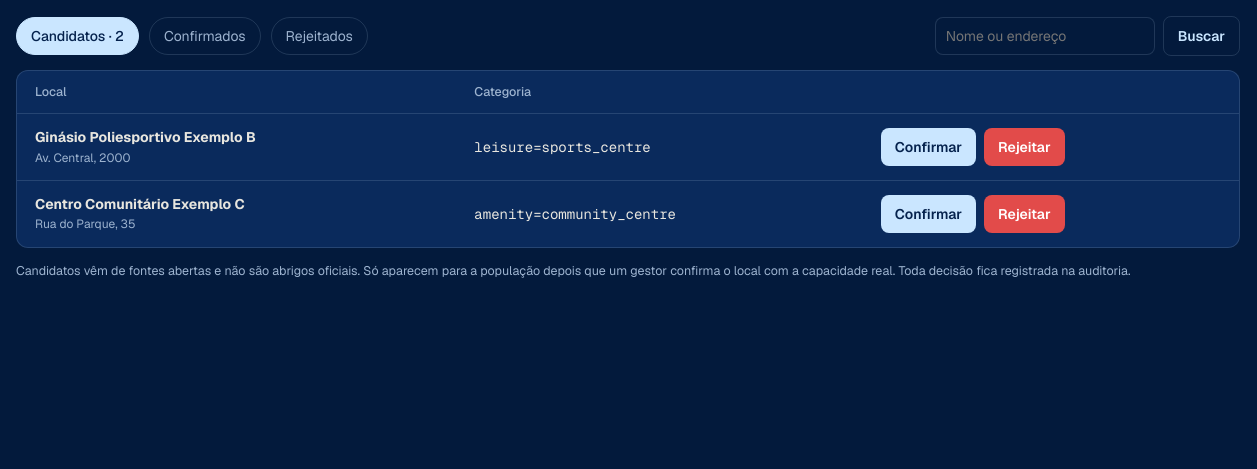
Test case: Revisão de abrigos › rejeita só com o motivo, e o local vai para os rejeitados
Click the button with aria-label "Rejeitar Ginásio Poliesportivo Exemplo B" at (1024, 147), box [984,128,1065,166]
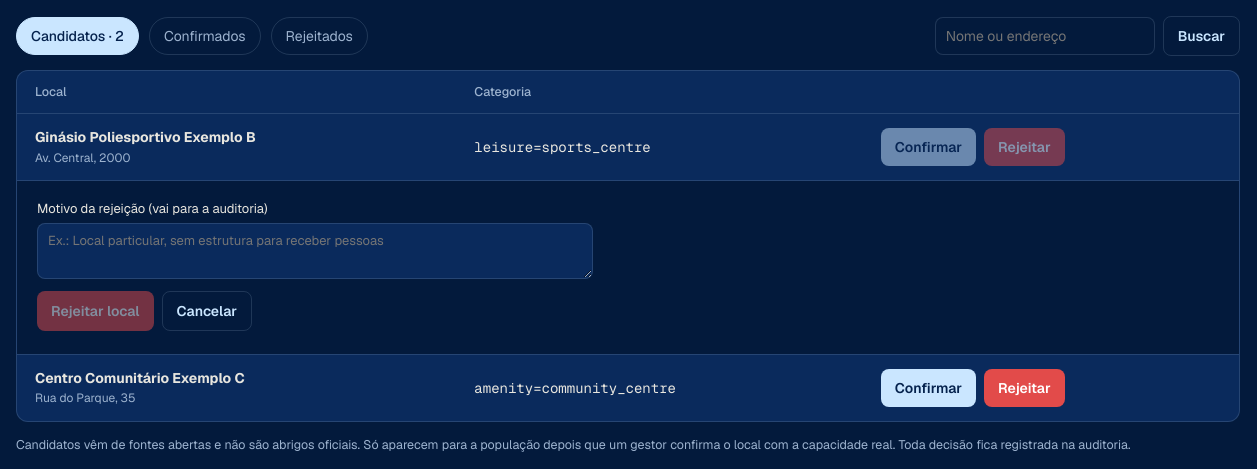
Check: the button "Rejeitar local" is disabled, box [37,291,154,331]
Type "Particular" into the text box labelled "Motivo da rejeição (vai para a auditoria)" at (315, 251), box [37,223,593,279]
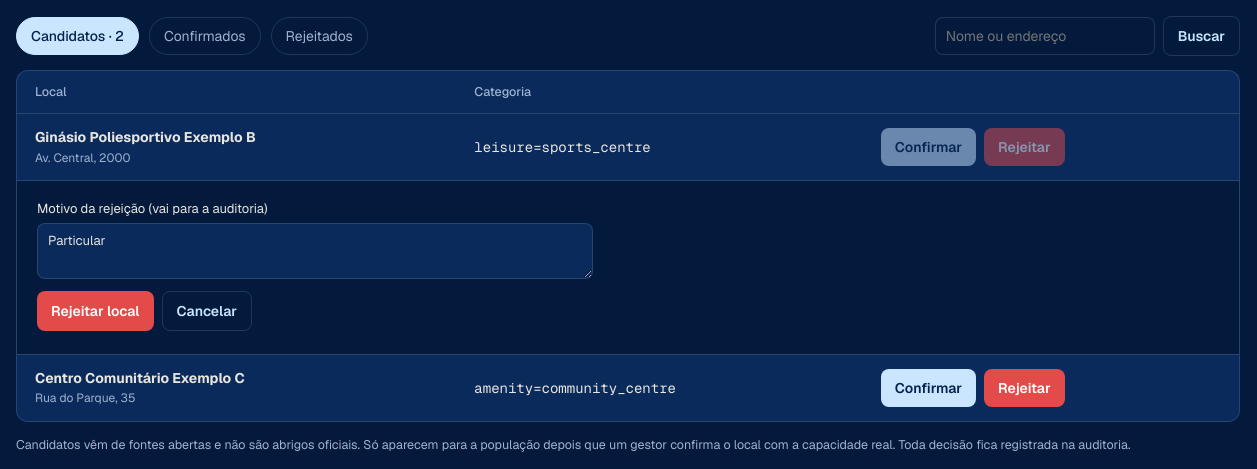
Check: the button "Rejeitar local" is enabled
Click the button "Rejeitar local" at (95, 311), box [37,291,154,331]
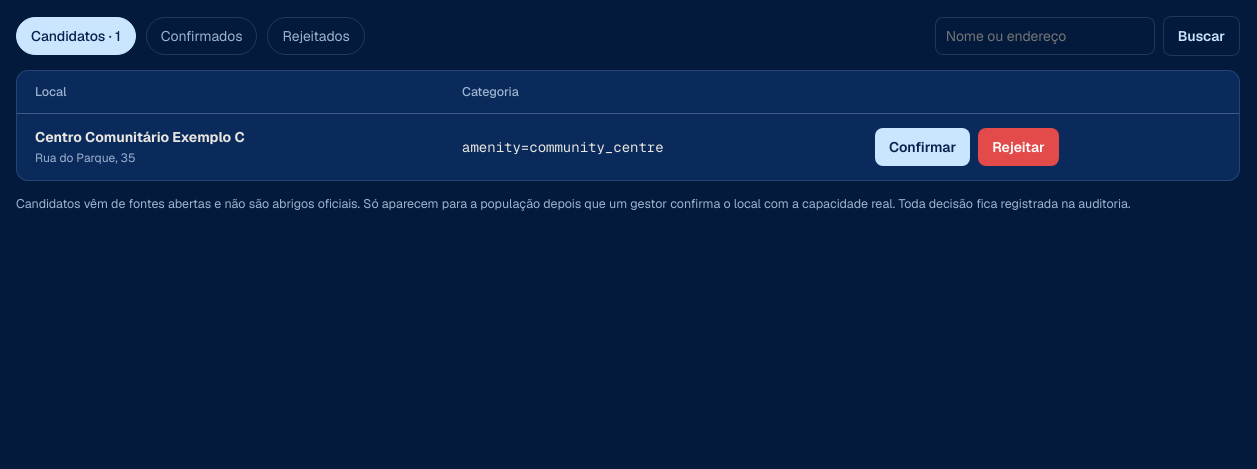
Check: the text "Ginásio Poliesportivo Exemplo B" is gone
Click the button "Rejeitados" at (316, 36), box [267,17,365,55]
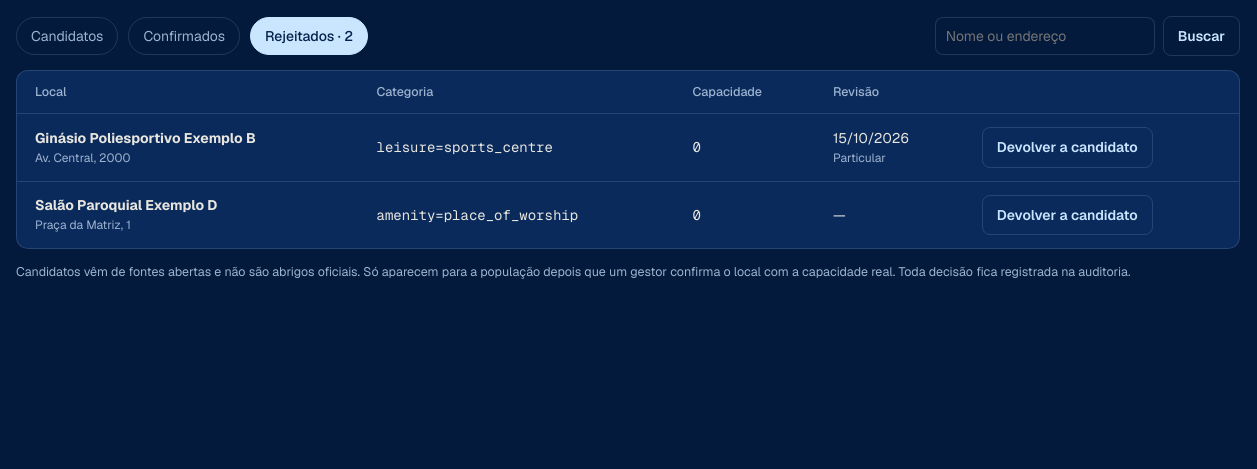
Check: the text "Particular" is shown, box [833,150,886,166]
